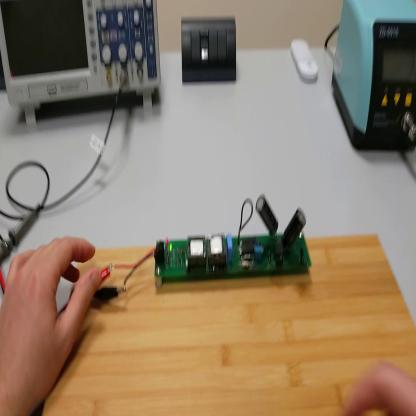hand: (2, 237, 109, 408), (345, 359, 414, 414)
high voltage board: (114, 192, 320, 293)
oscilloscope: (2, 2, 164, 132)
oscilloscope probe tip: (2, 205, 41, 265)
welder station: (333, 4, 416, 154)
working area: (43, 235, 416, 416)
